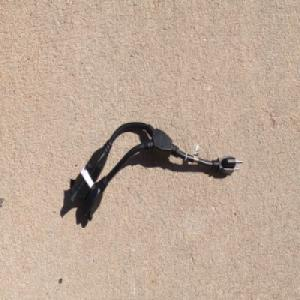Wire: (68, 120, 243, 223)
